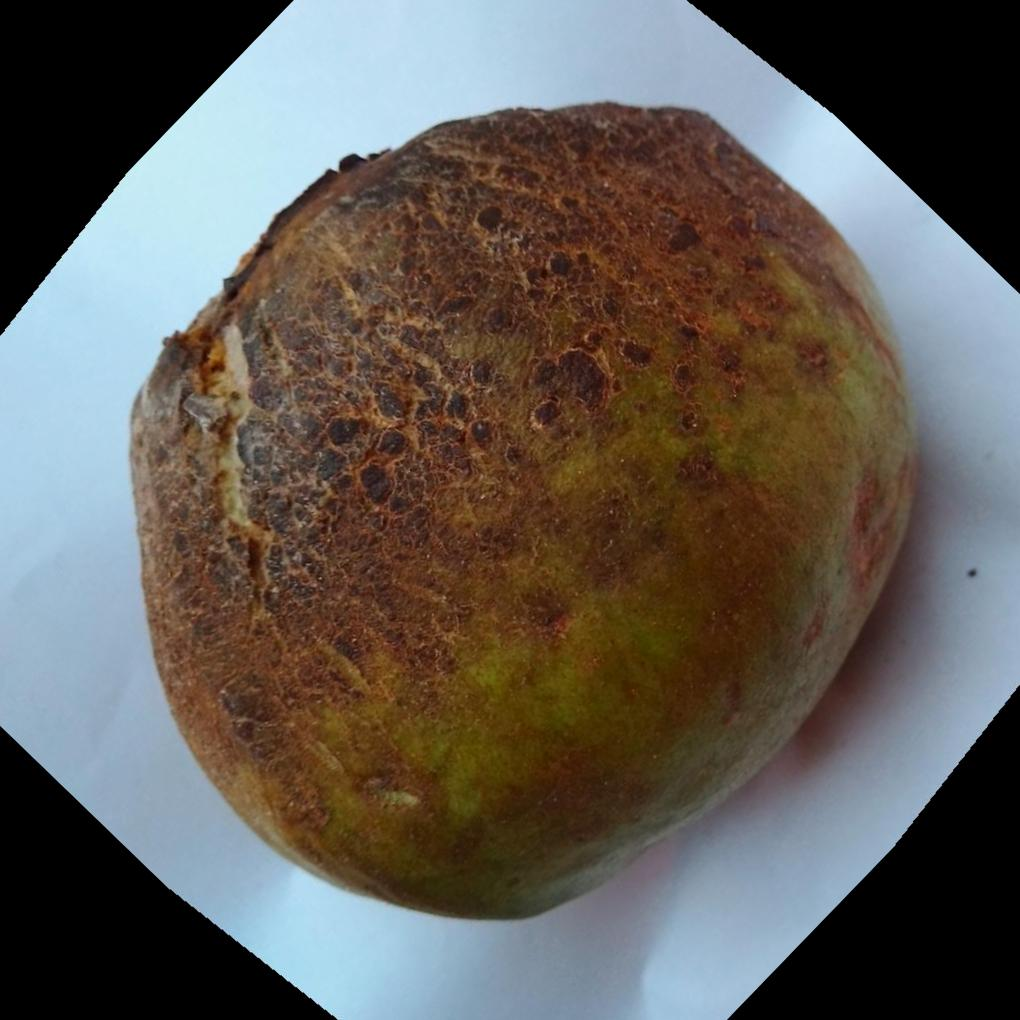FreshOrange: (128, 101, 924, 926)
